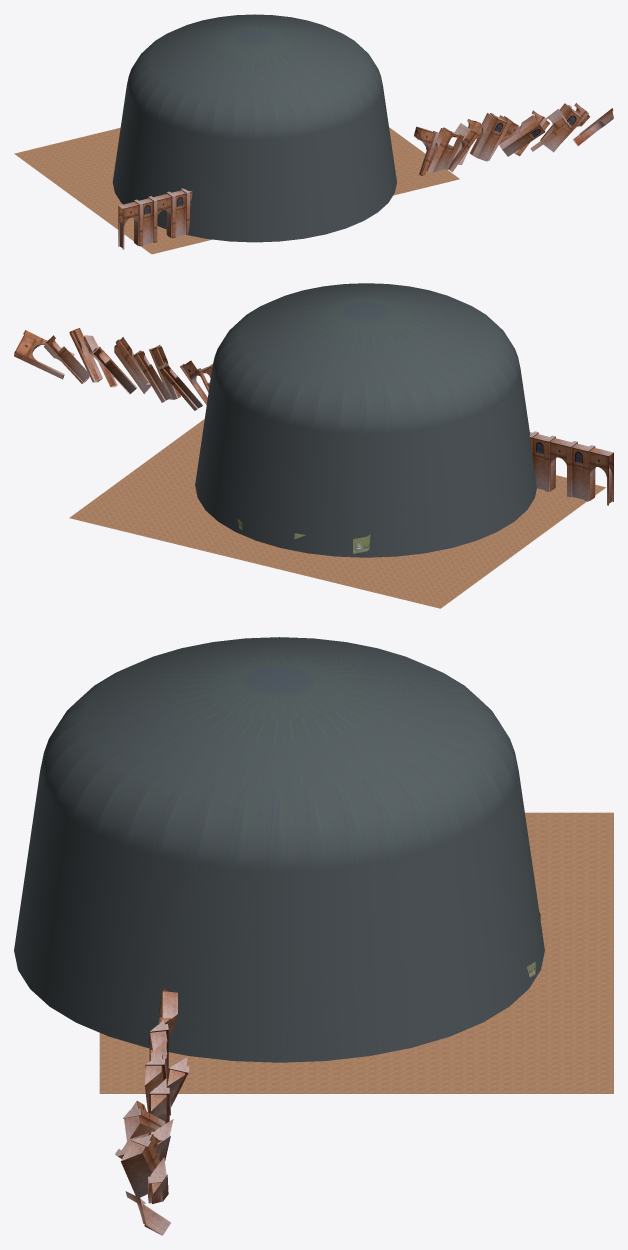
File: stage.glb
3 renders of one model, top to bottom at view 1: azimuth 30°, elevation 25°; view 2: azimuth 150°, elevation 25°; view 3: azimuth 270°, elevation 25°, orthographic. The views are drawn at different scales.
Visible parts, largest first — view 1: KORE_export_7_birdcage_1_0_0, KORE_export_5_rubbles_1_0_0, KORE_export_5_ground01A_1_0_0; view 2: KORE_export_7_birdcage_1_0_0, KORE_export_5_ground01A_1_0_0, KORE_export_5_rubbles_1_0_0; view 3: KORE_export_7_birdcage_1_0_0, KORE_export_5_ground01A_1_0_0, KORE_export_5_rubbles_1_0_0.
Part boxes in pixels (box(x1,y1,x2,y2)): KORE_export_7_birdcage_1_0_0: box(112, 14, 396, 242); KORE_export_5_rubbles_1_0_0: box(118, 103, 613, 249); KORE_export_5_ground01A_1_0_0: box(14, 127, 459, 254); KORE_export_7_birdcage_1_0_0: box(195, 283, 536, 557); KORE_export_5_ground01A_1_0_0: box(69, 419, 605, 608); KORE_export_5_rubbles_1_0_0: box(14, 328, 613, 505); KORE_export_7_birdcage_1_0_0: box(14, 637, 544, 1062); KORE_export_5_ground01A_1_0_0: box(99, 812, 613, 1093); KORE_export_5_rubbles_1_0_0: box(115, 989, 189, 1235).
Size of the model in its own units: 18 by 5.48 by 10.17.
9 materials, 9 textured.
